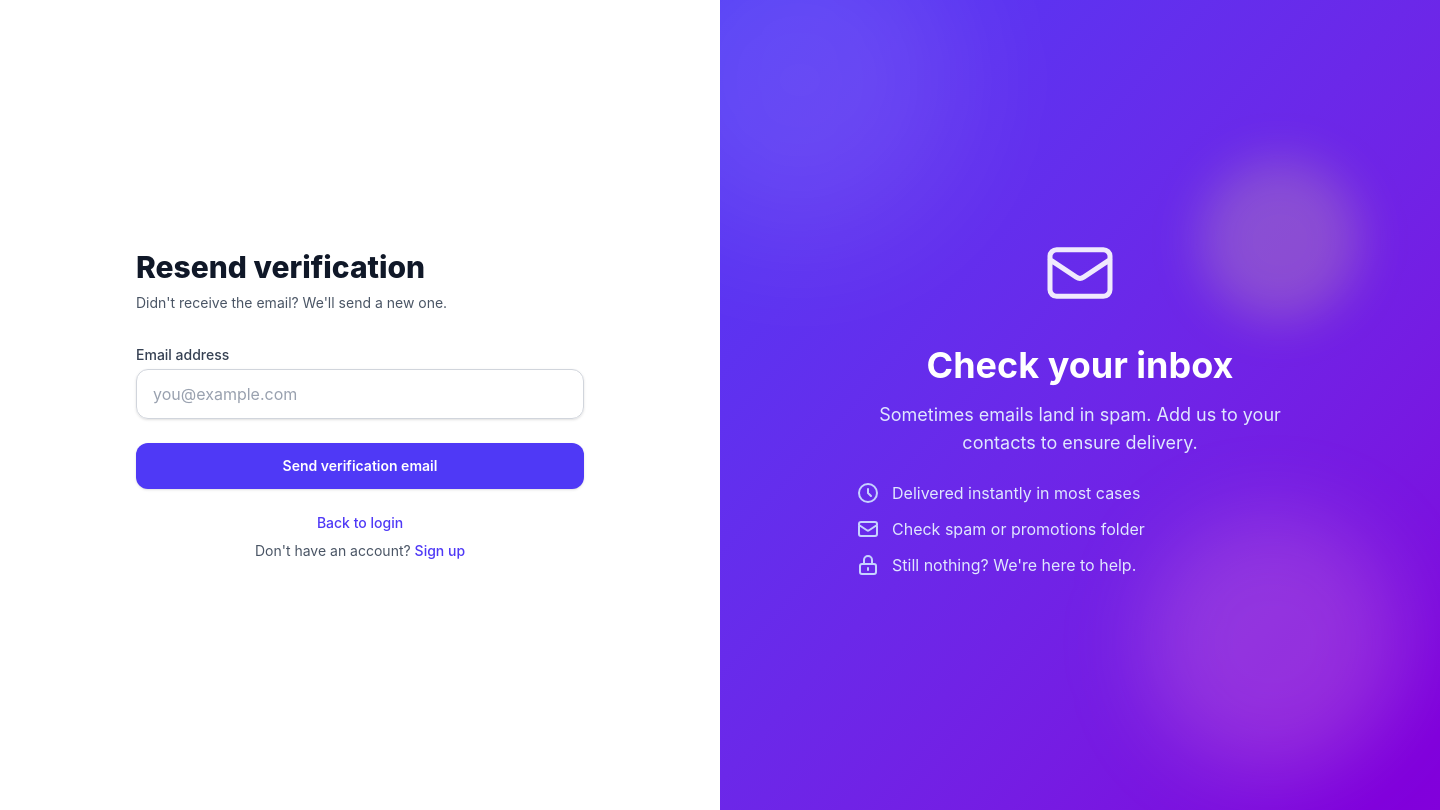
ResendVerificationPage › Form Submission › shows success message after successful resend
The width and height of the screenshot is (1440, 810).
In the field labelled "Email address": point(360, 394) [136,369,584,419], type "test@example.com"
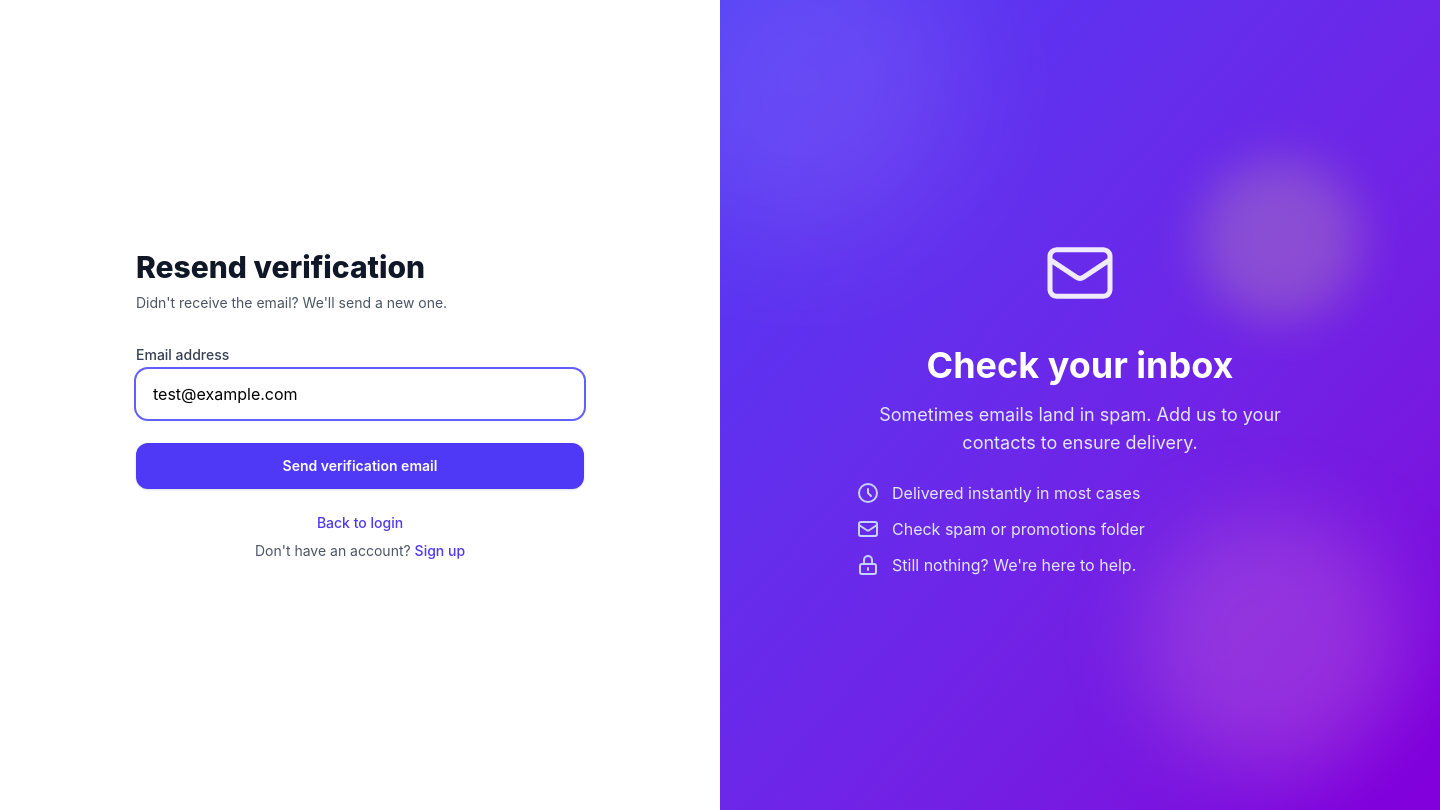
Click the button "Send verification email": point(360, 466) [136,443,584,489]
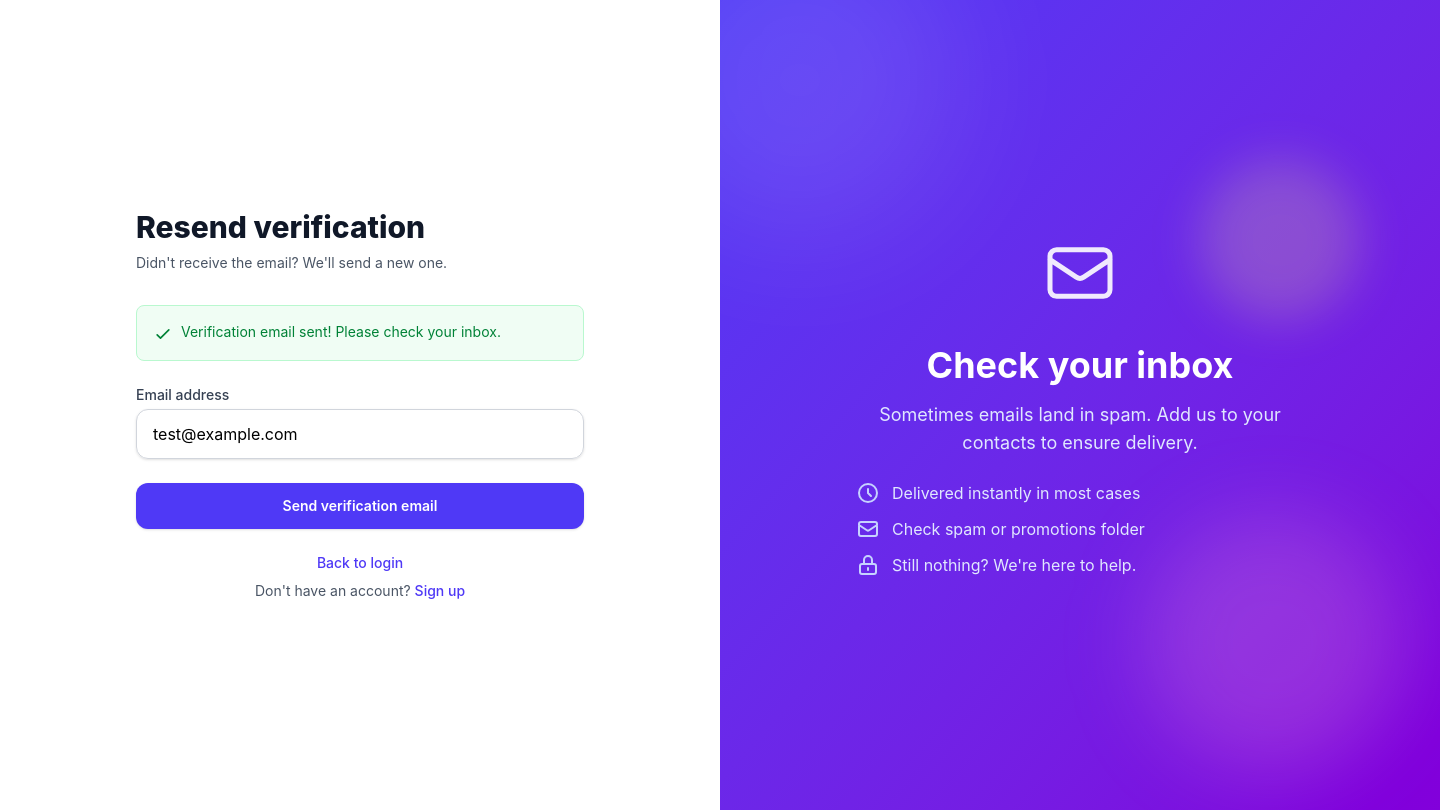
Expected: the text "Verification email sent! Please check your inbox." is shown, [181,322,501,342]
